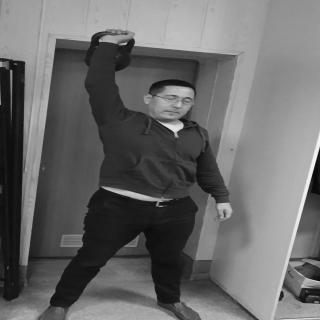kettlebell: (84, 31, 137, 72)
